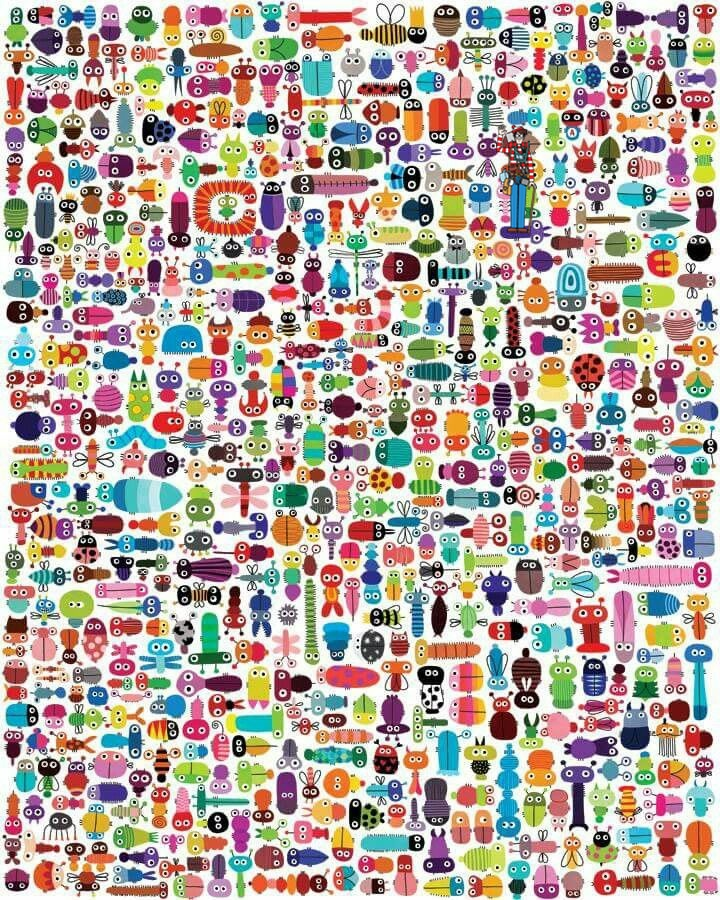waldo: (496, 124, 537, 234)
